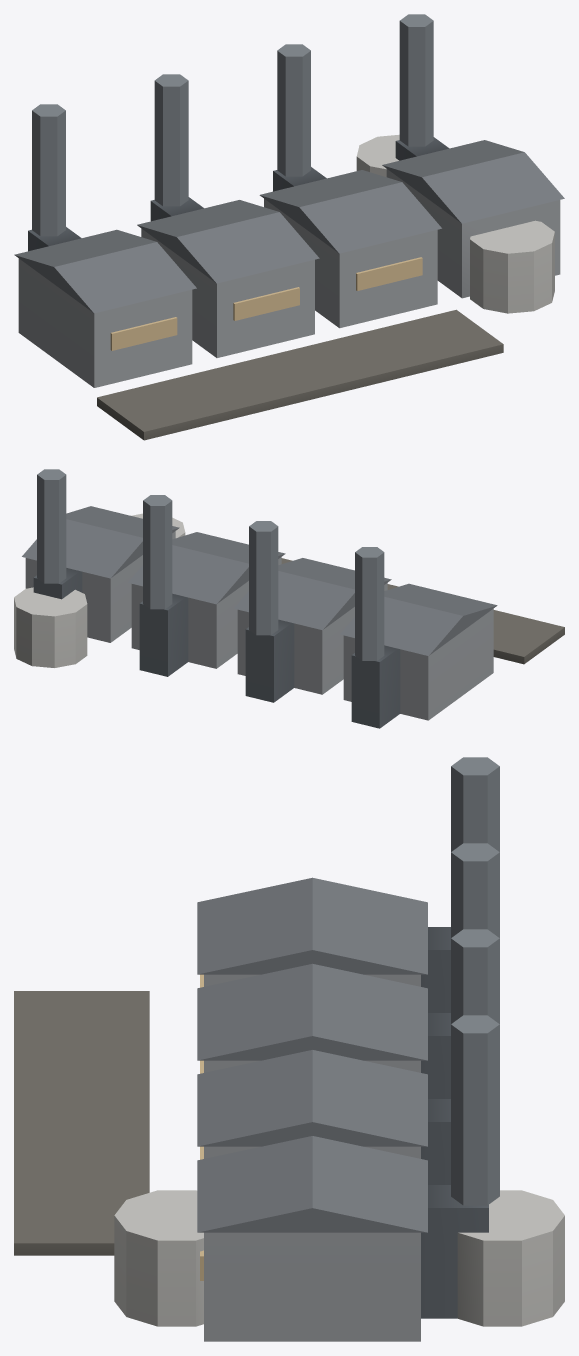
File: plant_peaker_l3.fbx
The picture shows the model from 3 angles, top to bottom: view 1: azimuth 30°, elevation 25°; view 2: azimuth 150°, elevation 25°; view 3: azimuth 270°, elevation 25°; orthographic projection. The views are drawn at different scales.
Visible parts, largest first — view 1: plant_peaker_l3; view 2: plant_peaker_l3; view 3: plant_peaker_l3.
Part boxes in pixels (x1=…): plant_peaker_l3: x1=14, y1=14, x2=564, y2=440; plant_peaker_l3: x1=14, y1=469, x2=564, y2=728; plant_peaker_l3: x1=14, y1=757, x2=564, y2=1341.
Bounding box in the file's own units: 59.3 × 23 × 40.6.
